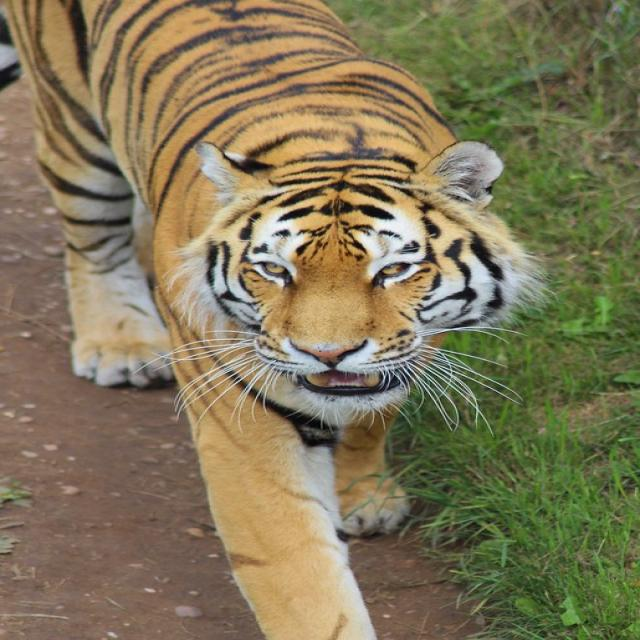Tiger: (14, 1, 553, 631)
